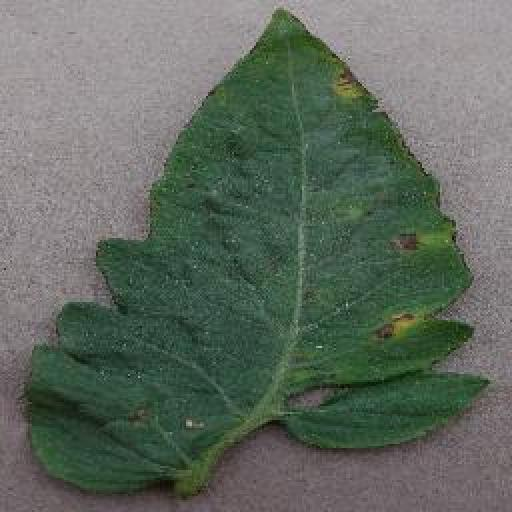Bacterial Spot: (20, 4, 493, 497)
